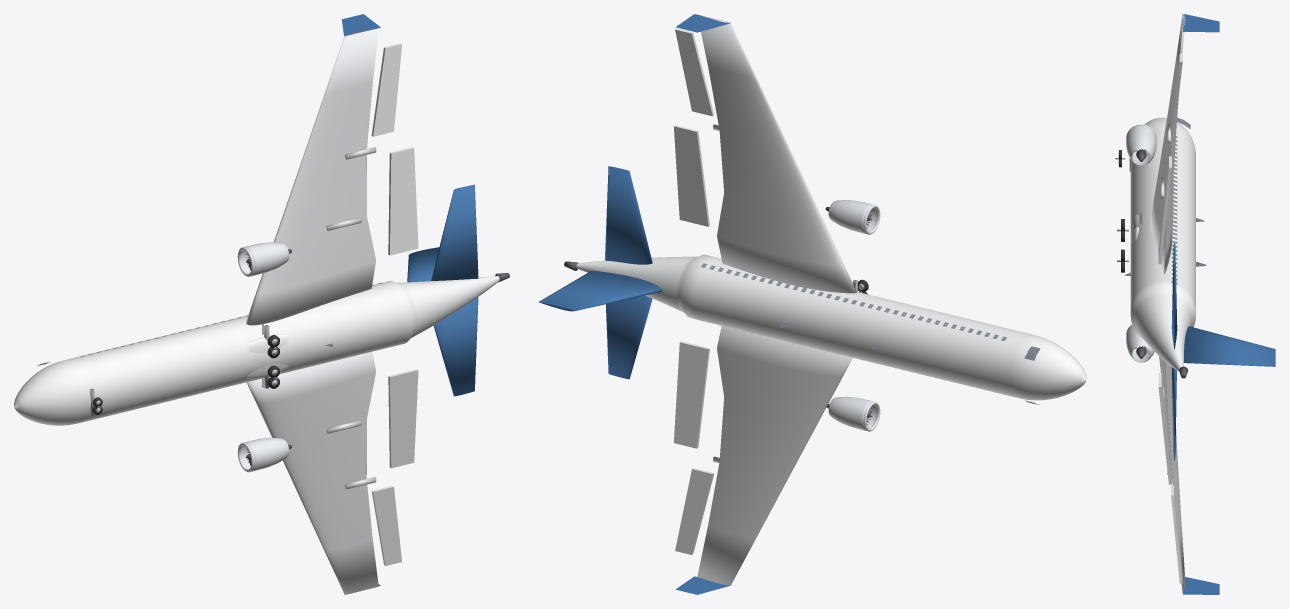
3 views of the same model, side by side, from view 1: azimuth 30°, elevation 25°; view 2: azimuth 150°, elevation 25°; view 3: azimuth 270°, elevation 25° (orthographic).
Parts seen in each view (by area): view 1: Fuselage, Wing_R, Wing_L, HStab_R, HStab_L, Flap_R, Flap_L, Aileron_R, Aileron_L, Nacelle_-1_0, Nacelle_1_0, Fin (+1 smaller); view 2: Fuselage, Wing_L, Wing_R, HStab_R, Flap_L, Fin, HStab_L, Flap_R, Aileron_L, Aileron_R, Nacelle_-1_0, Nacelle_1_0 (+1 smaller); view 3: Fuselage, Fin, Wing_R, Wing_L, Nacelle_1_0, Sharklet_R, Flap_L, Flap_R, Sharklet_L, Nacelle_-1_0, HStab_R, Aileron_L (+3 smaller).
Part boxes in pixels (x1,y1,x2,y2): Fuselage: (14, 276, 499, 425); Wing_R: (246, 28, 378, 325); Wing_L: (246, 352, 378, 594); HStab_R: (431, 184, 478, 280); HStab_L: (433, 297, 478, 396); Flap_R: (388, 147, 418, 255); Flap_L: (388, 369, 418, 468); Aileron_R: (371, 43, 401, 136); Aileron_L: (371, 486, 401, 565); Nacelle_-1_0: (241, 437, 289, 471); Nacelle_1_0: (241, 242, 289, 276); Fin: (407, 247, 439, 282); Fuselage: (576, 254, 1086, 400); Wing_L: (697, 326, 852, 585); Wing_R: (698, 14, 856, 293); HStab_R: (604, 166, 652, 264); Flap_L: (674, 341, 709, 448); Fin: (538, 270, 662, 311); HStab_L: (606, 295, 652, 379); Flap_R: (674, 125, 709, 226); Aileron_L: (675, 468, 714, 554); Aileron_R: (675, 28, 714, 116); Nacelle_-1_0: (828, 396, 877, 430); Nacelle_1_0: (828, 200, 877, 234); Fuselage: (1130, 117, 1195, 371); Fin: (1184, 326, 1275, 366); Wing_R: (1150, 14, 1185, 274); Wing_L: (1159, 356, 1185, 592); Nacelle_1_0: (1126, 125, 1156, 165); Sharklet_R: (1182, 14, 1219, 32); Flap_L: (1158, 373, 1171, 484); Flap_R: (1158, 156, 1171, 264); Sharklet_L: (1183, 577, 1219, 594); Nacelle_-1_0: (1126, 325, 1154, 362); HStab_R: (1171, 243, 1177, 349); Aileron_L: (1171, 485, 1182, 583).
Size of the model in its own units: 33.91 by 35.79 by 9.23.
